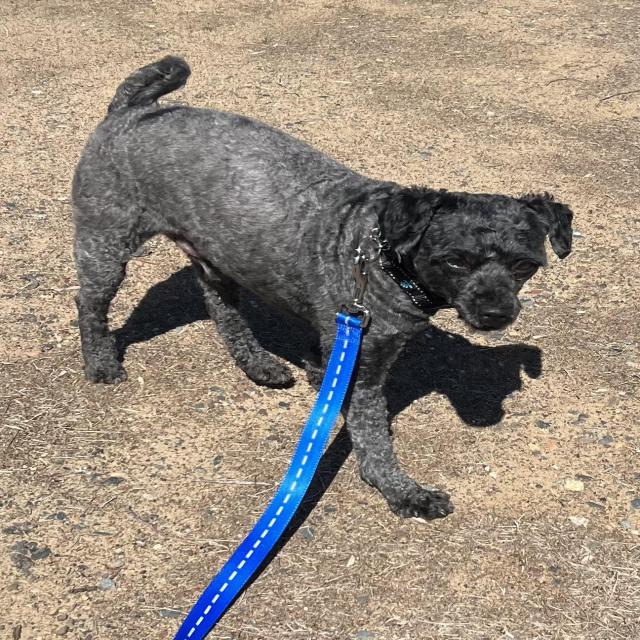Poodle_dog: (357, 180, 587, 350)
